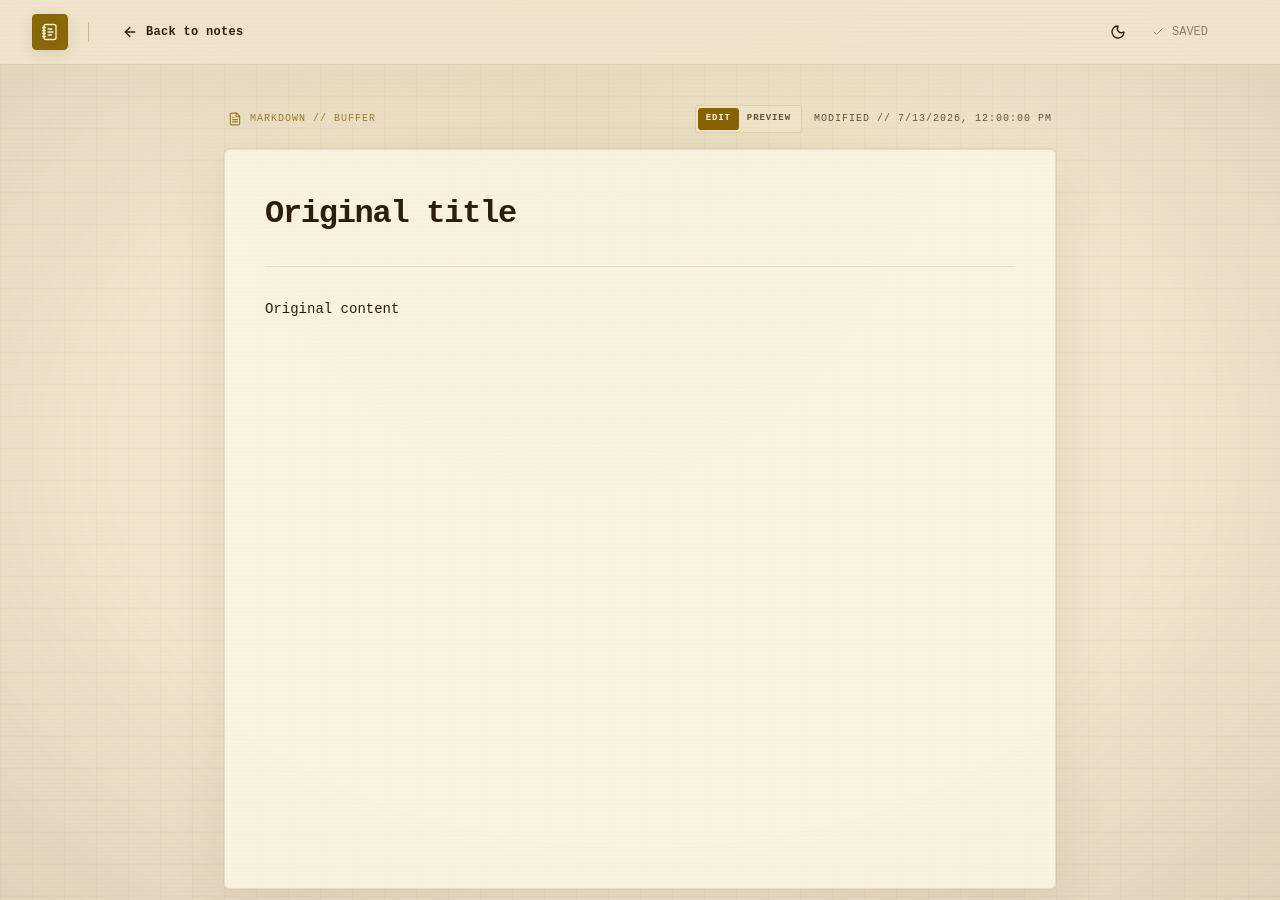
Test: NoteEditor autosave › shows remote markdown changes while the editor is idle
Click the tab "edit" at (718,119), box [698,108,739,130]
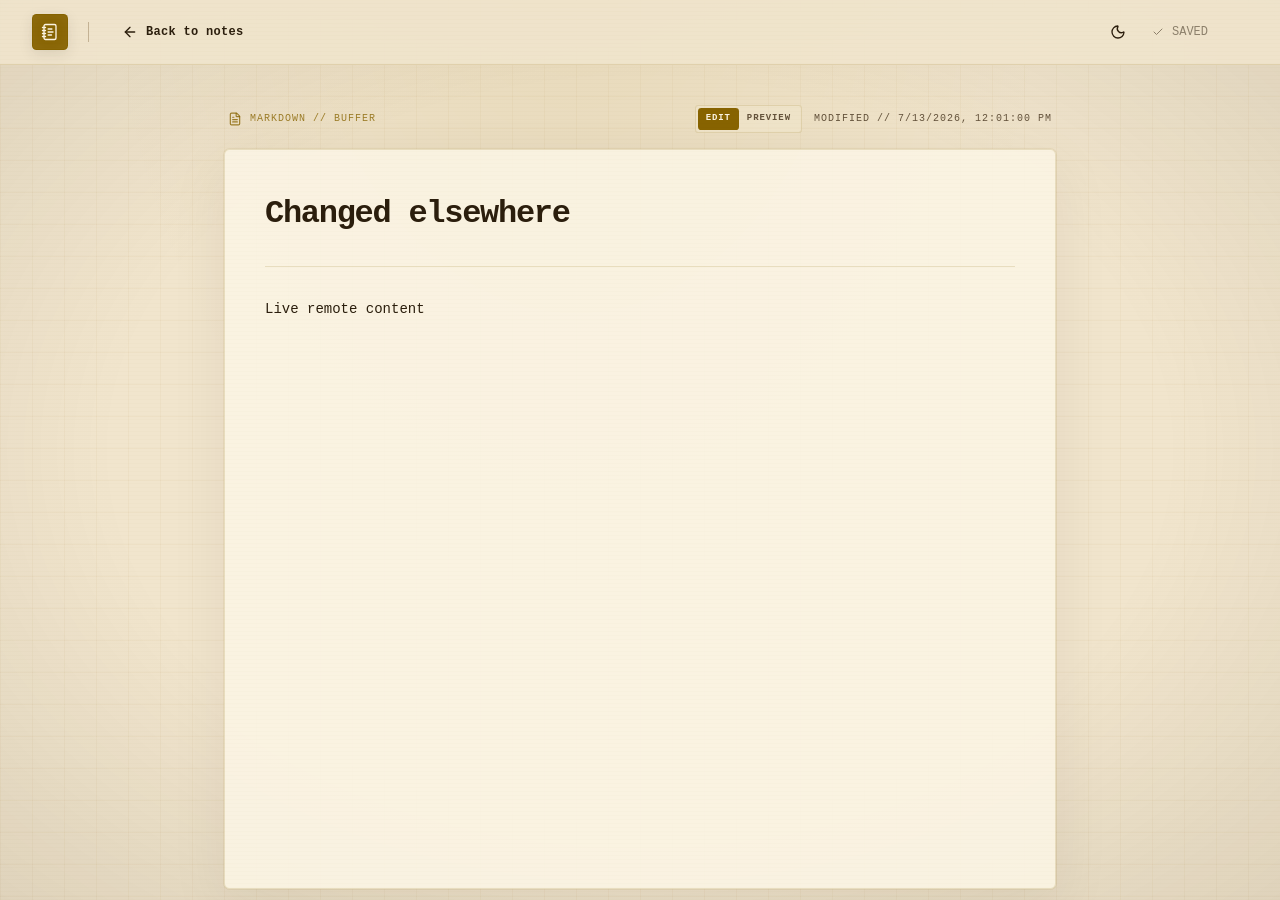
Check: the field with placeholder "Untitled note" holds "Changed elsewhere", box [265,190,1015,238]
Check: the text box with placeholder "Start writing..." holds "Live remote content", box [265,294,1015,834]
